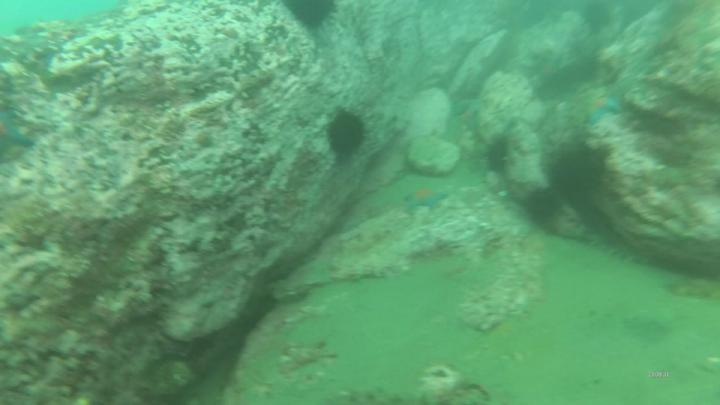echinus: (548, 136, 617, 198), (327, 105, 372, 161), (525, 186, 569, 232), (486, 136, 513, 174)
starfish: (586, 92, 625, 129), (405, 184, 449, 214)
